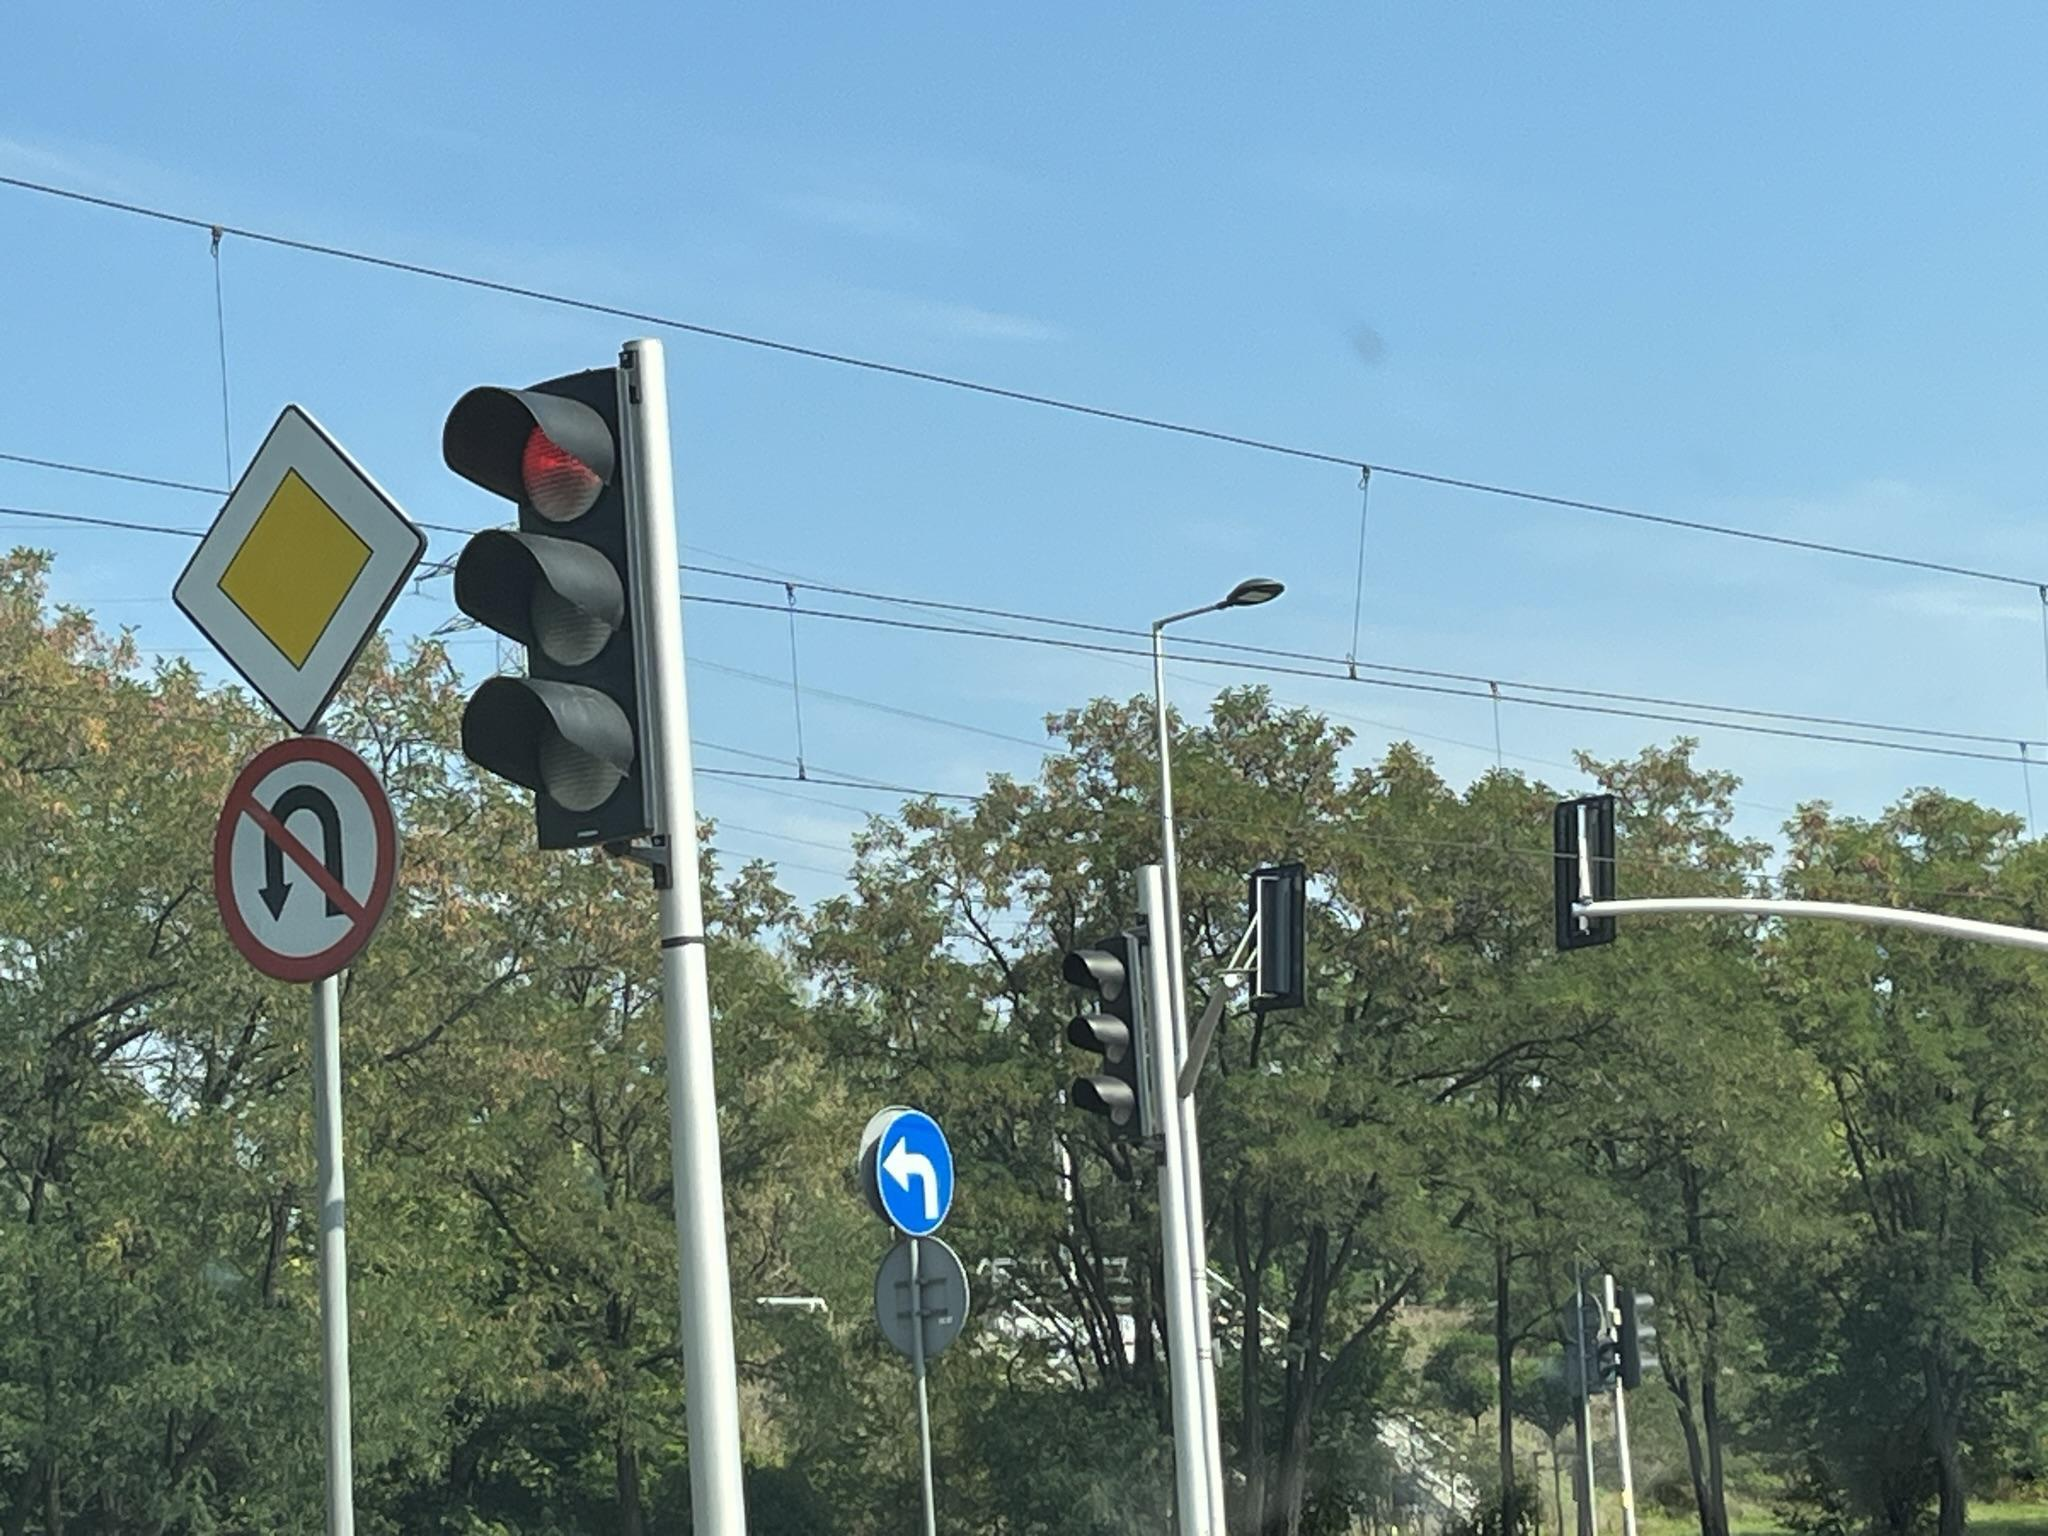information: (168, 395, 431, 729)
mandatory: (876, 1105, 956, 1238)
prohibitory: (208, 734, 398, 986)
